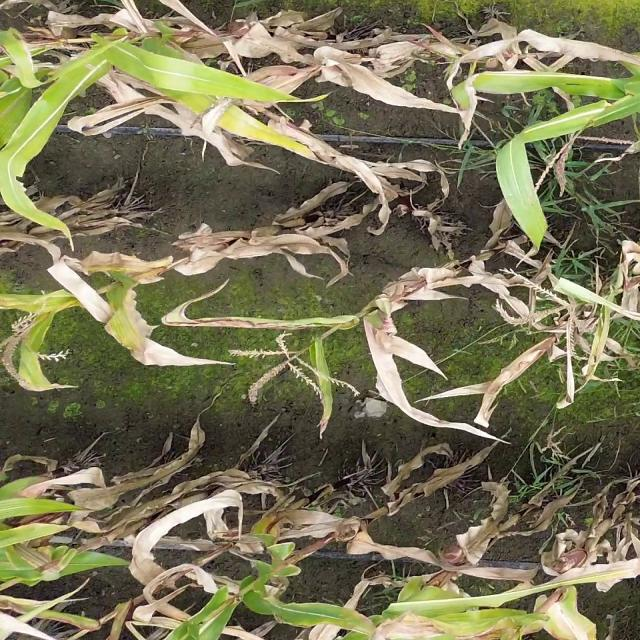northern-leaf-blight: (436, 66, 606, 138), (108, 275, 208, 382), (180, 102, 330, 167), (329, 601, 549, 640), (240, 501, 297, 604)
